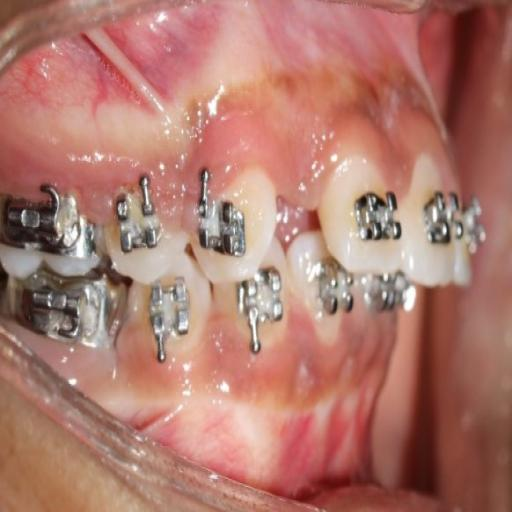correct_brace: (104, 187, 186, 284), (348, 182, 403, 248), (196, 193, 248, 258), (424, 188, 463, 246)
incorrect_brace: (318, 155, 406, 275), (114, 183, 160, 252)
